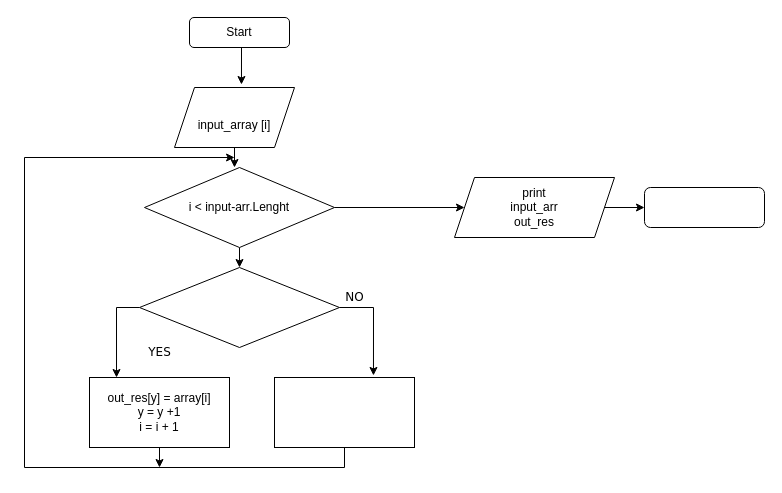
Some shapes in this 782 by 493 pixel diagram are drawn without their labels. Each missing label, with the centre of its shape:
finish: pixel 704 207
i = i + 1: pixel 344 412
input-arr(i)<= 3: pixel 239 307
